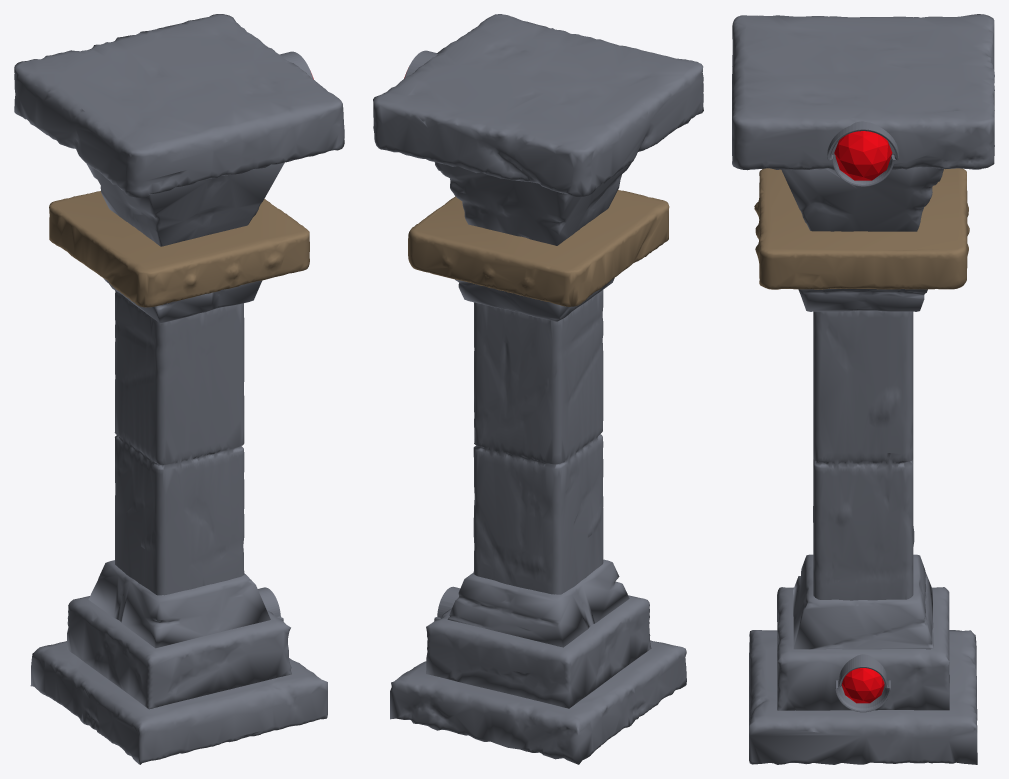
Rendered from bigColumns.fbx.
3 renders of one model, left to right at view 1: azimuth 30°, elevation 25°; view 2: azimuth 150°, elevation 25°; view 3: azimuth 270°, elevation 25°, orthographic. The views are drawn at different scales.
Visible parts, largest first — view 1: Cube.007, Cube.003, Cube.005, Cube, Cube.001, Cube.002, Cube.006, Cube.004; view 2: Cube.007, Cube.003, Cube.005, Cube, Cube.001, Cube.002, Cube.006, Cube.004; view 3: Cube.007, Cube.003, Cube.005, Cube, Cube.001, Cube.002, Cube.006, Cube.004, Icosphere, Cylinder.001, Cylinder, Icosphere.001.
Part boxes in pixels (x1,y1,x2,y2): Cube.007: (14, 14, 344, 197); Cube.003: (114, 290, 244, 595); Cube.005: (49, 191, 309, 307); Cube: (30, 641, 327, 764); Cube.001: (67, 596, 291, 709); Cube.002: (88, 560, 270, 648); Cube.006: (86, 162, 284, 246); Cube.004: (103, 278, 262, 323); Cube.007: (373, 14, 703, 196); Cube.003: (473, 290, 603, 594); Cube.005: (408, 190, 669, 306); Cube: (390, 640, 686, 764); Cube.001: (426, 595, 651, 708); Cube.002: (447, 559, 629, 647); Cube.006: (434, 162, 631, 245); Cube.004: (455, 278, 614, 321); Cube.007: (732, 14, 994, 170); Cube.003: (813, 310, 914, 600); Cube.005: (754, 168, 969, 289); Cube: (749, 630, 977, 764); Cube.001: (777, 587, 949, 710); Cube.002: (793, 554, 933, 649); Cube.006: (781, 167, 943, 231); Cube.004: (798, 288, 927, 311); Icosphere: (834, 131, 892, 180); Cylinder.001: (835, 654, 890, 712); Cylinder: (827, 121, 898, 186); Icosphere.001: (841, 668, 884, 703).
Bounding box in the file's own units: 250 × 619 × 227.
